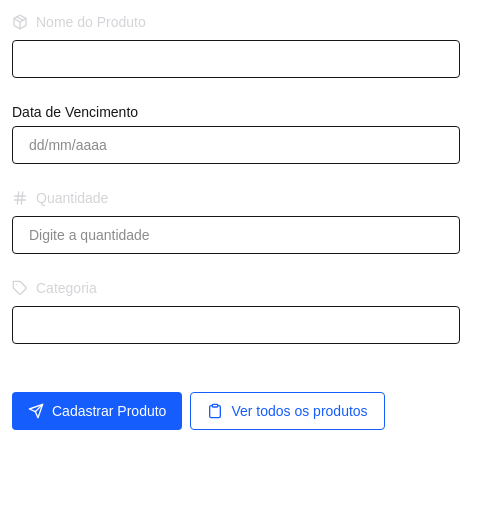
Test: ProductForm › deve exibir erros se submeter sem preencher campos
Click the button "Cadastrar Produto" at (97, 411), box x1=12 y1=392 x2=182 y2=430
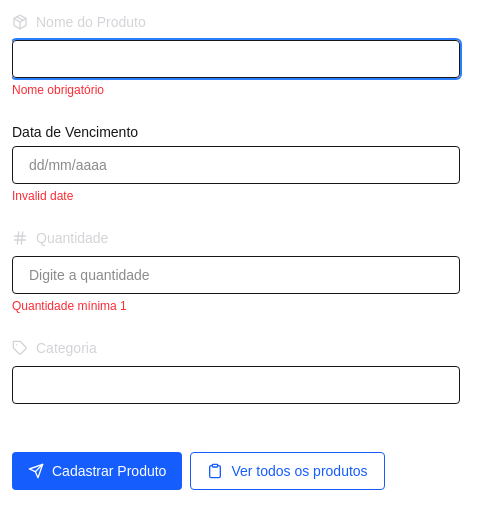
Now the text "Nome obrigatório" is shown, box x1=12 y1=83 x2=104 y2=97
Now the text "Quantidade mínima 1" is shown, box x1=12 y1=299 x2=127 y2=313
